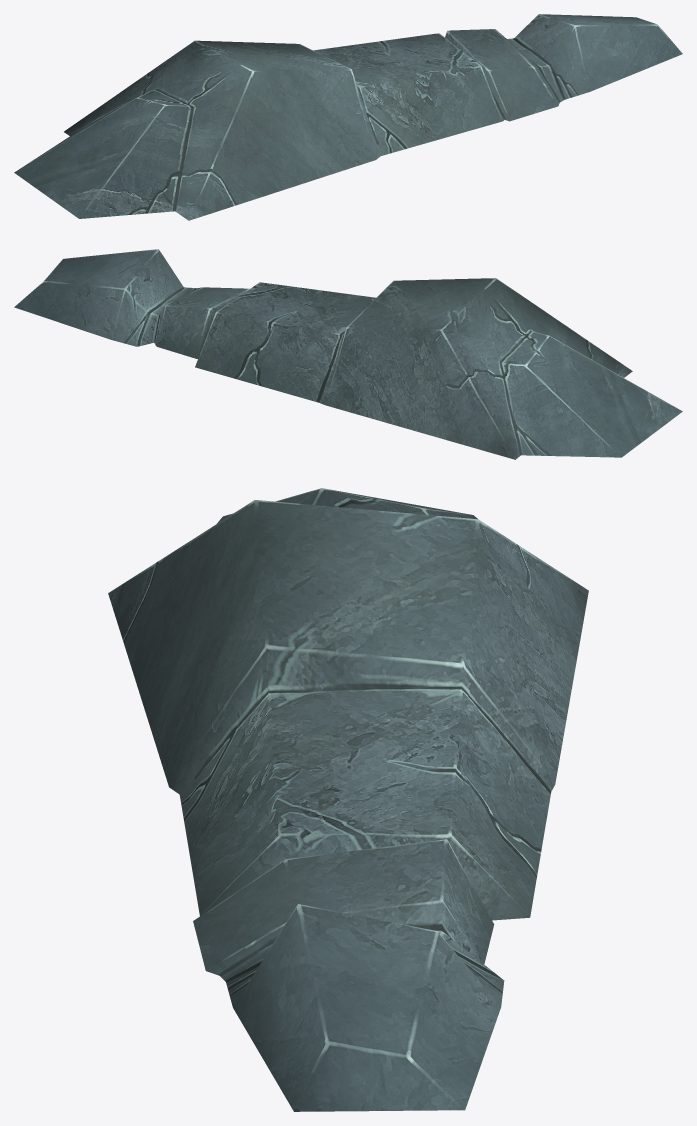
Rendered from Rock_4.fbx.
3 views of the same model, one above another, from view 1: azimuth 30°, elevation 25°; view 2: azimuth 150°, elevation 25°; view 3: azimuth 270°, elevation 25° (orthographic). The views are drawn at different scales.
Visible parts, largest first — view 1: pPlane5; view 2: pPlane5; view 3: pPlane5.
Part boxes in pixels (x1,y1,x2,y2): pPlane5: [14, 14, 682, 220]; pPlane5: [14, 249, 682, 459]; pPlane5: [108, 488, 588, 1111].
Size of the model in its own units: 15.16 by 2.26 by 5.16.
